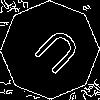U: (25, 25, 84, 84)
